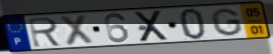0: (178, 7, 208, 41)
6: (104, 12, 131, 44)
G: (209, 7, 245, 37)
R: (26, 16, 64, 49)
X: (133, 9, 172, 44), (58, 13, 96, 47)
